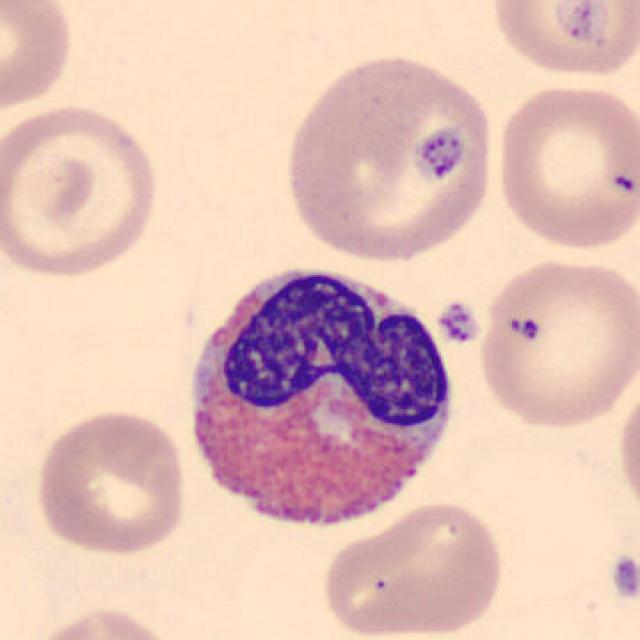Eosinophil: (174, 249, 464, 548)
Platelets: (434, 298, 482, 347), (606, 550, 640, 605)
RBC: (276, 46, 500, 268), (471, 250, 638, 434), (0, 101, 164, 282), (316, 497, 510, 640), (491, 79, 638, 254), (30, 405, 190, 559), (486, 0, 636, 83), (0, 0, 78, 118), (25, 603, 183, 640), (611, 365, 640, 523)
